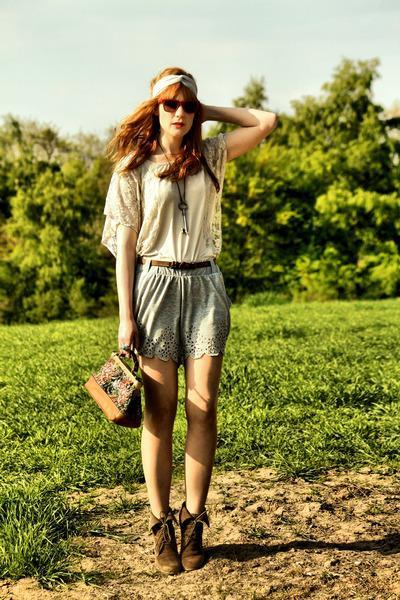bag: (85, 352, 142, 430)
shirt: (101, 132, 241, 276)
shoe: (137, 492, 219, 581)
shorts: (128, 260, 241, 371)
